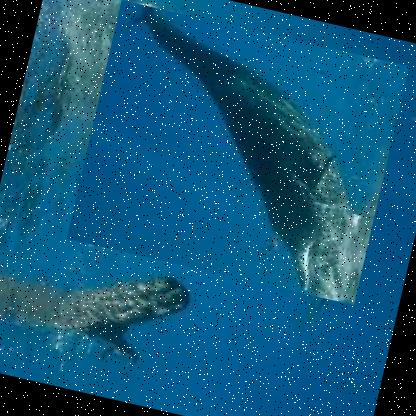sperm_whale: (66, 0, 411, 305), (46, 247, 232, 384)
